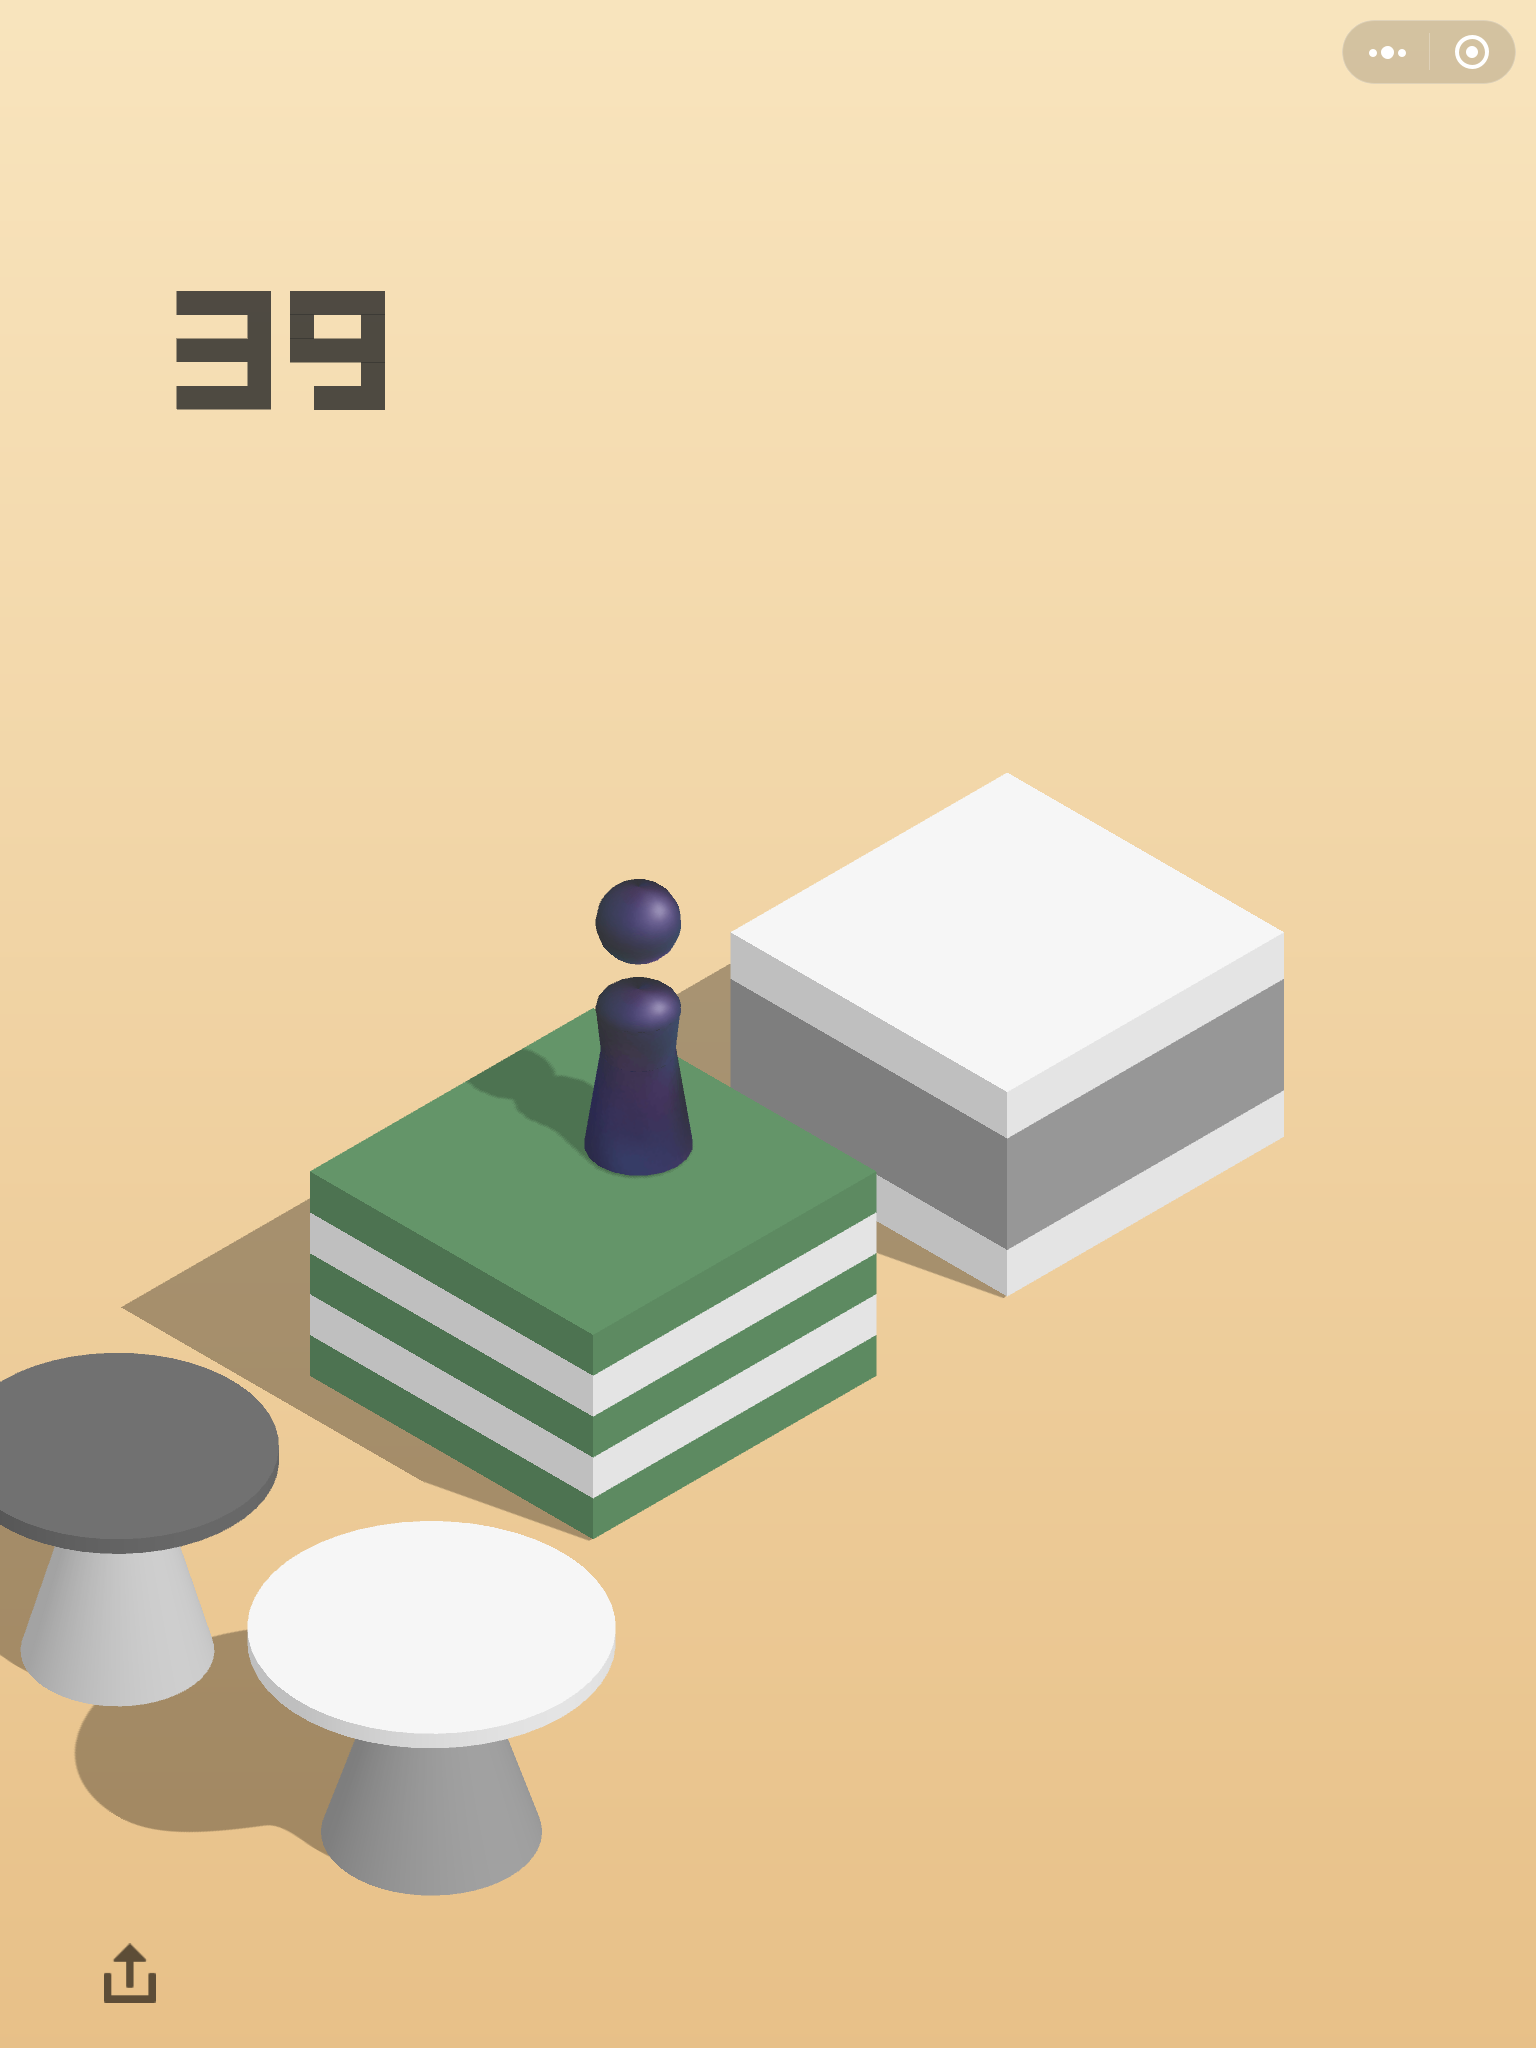c: (240, 1513, 624, 1901), (2, 1347, 286, 1716)
f: (302, 997, 881, 1542), (720, 766, 1291, 1303)
r: (574, 871, 702, 1184)
